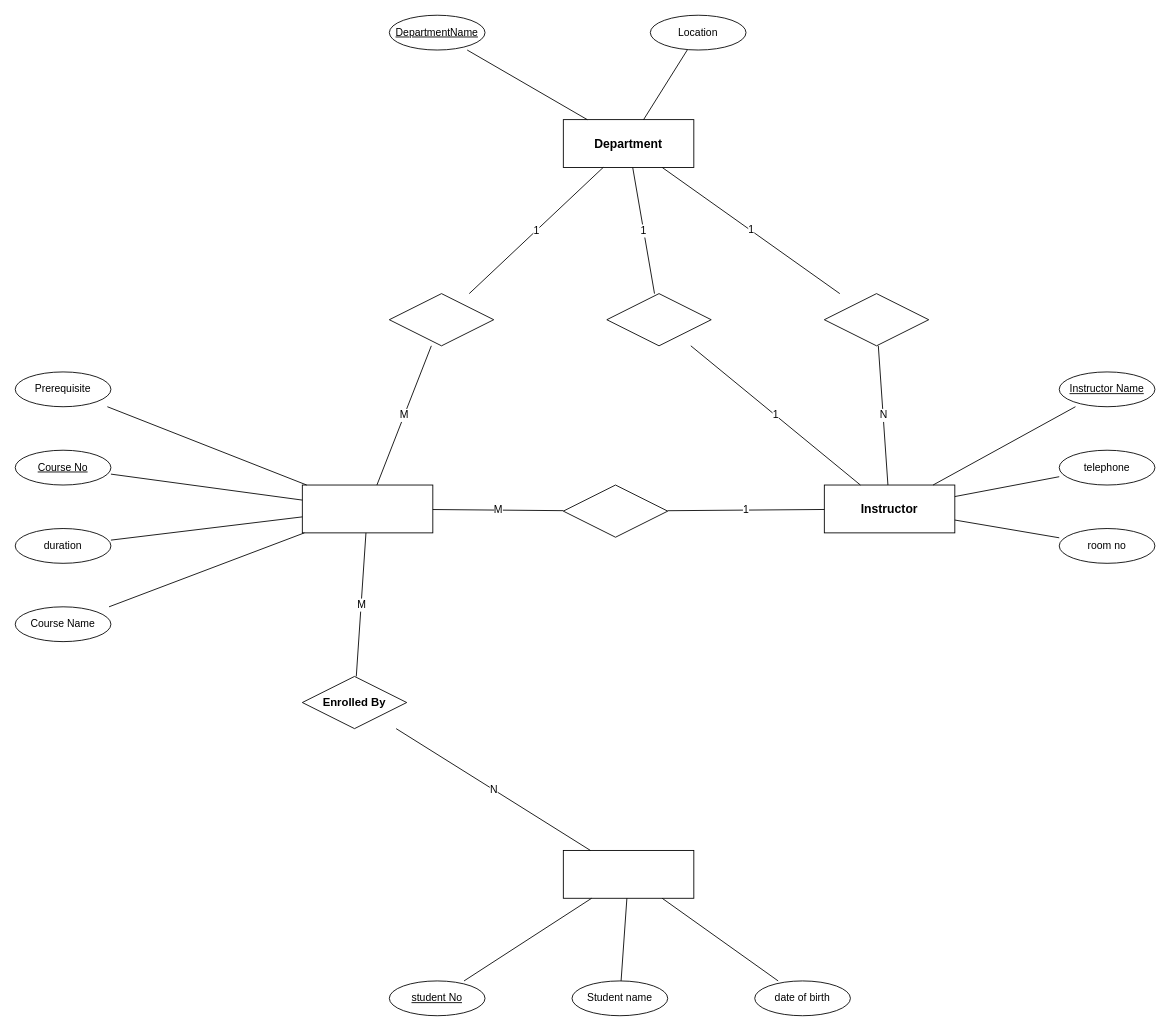
The diagram is 1170 pixels wide and 1031 high, and some of its shapes have lost their labels. The shapes that lost their labels are listed below. From the top down, each one's box as (x1, y1, x2, y2) in pixels, then its label:
(388, 293, 494, 346): Offers
(606, 293, 711, 346): Headed by
(823, 293, 929, 346): Has
(301, 484, 433, 533): Course
(562, 484, 668, 537): Is taught by
(562, 850, 694, 898): student
